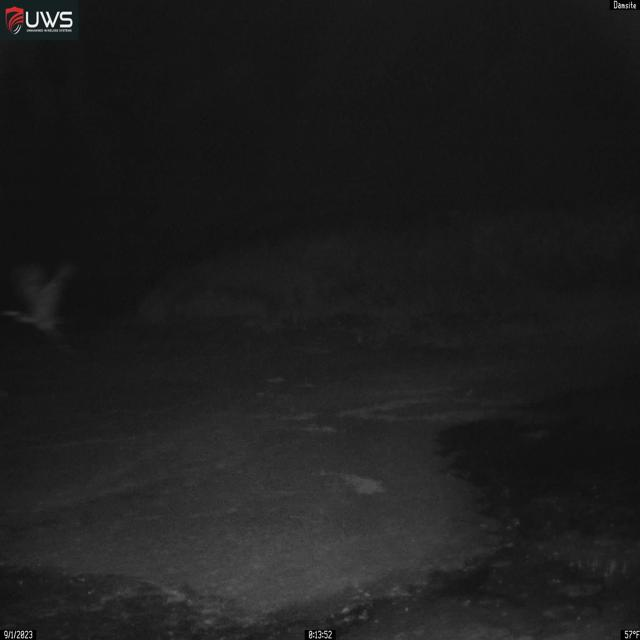bird: (0, 257, 79, 345)
